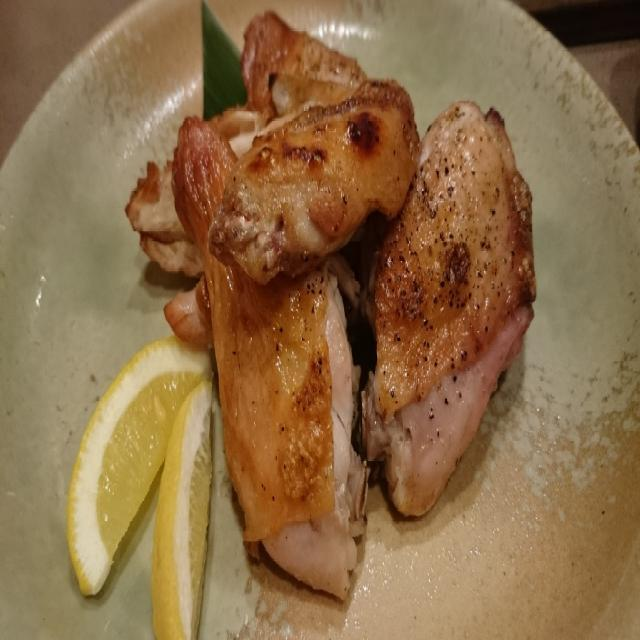Lemon: (64, 329, 215, 599), (151, 379, 216, 640)
